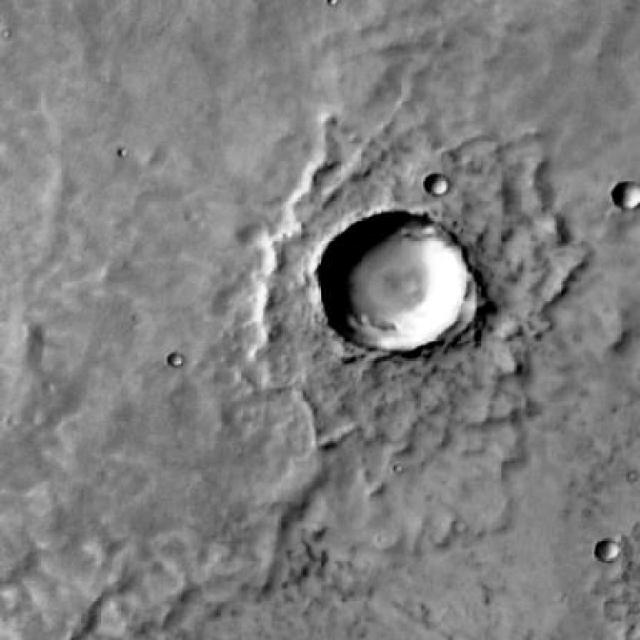crater: (321, 219, 477, 359), (592, 538, 620, 564), (616, 187, 638, 213), (426, 173, 448, 192)
